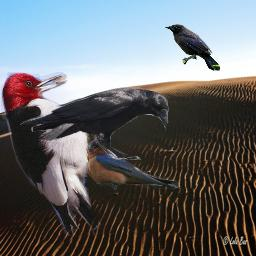Crow: (20, 87, 169, 160), (165, 24, 220, 71)
Swallow: (85, 139, 187, 191)
Woodpecker: (1, 72, 102, 236)
